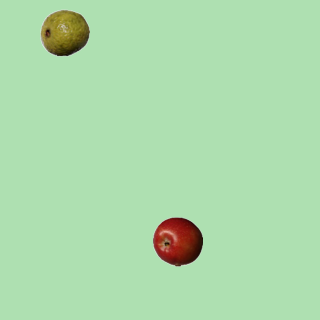Apple Braeburn: (152, 216, 202, 266)
Guava: (39, 7, 89, 57)
